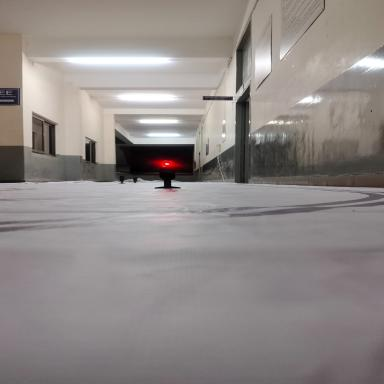traffic red: (146, 154, 198, 192)
